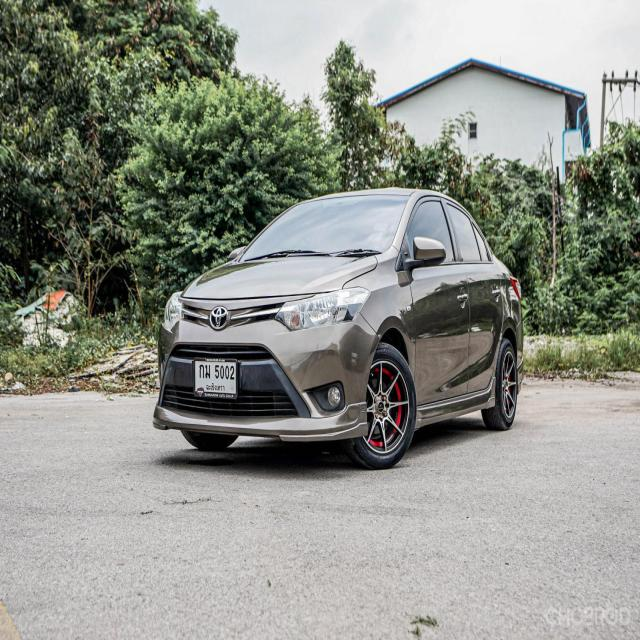license_plate: (186, 352, 242, 406)
